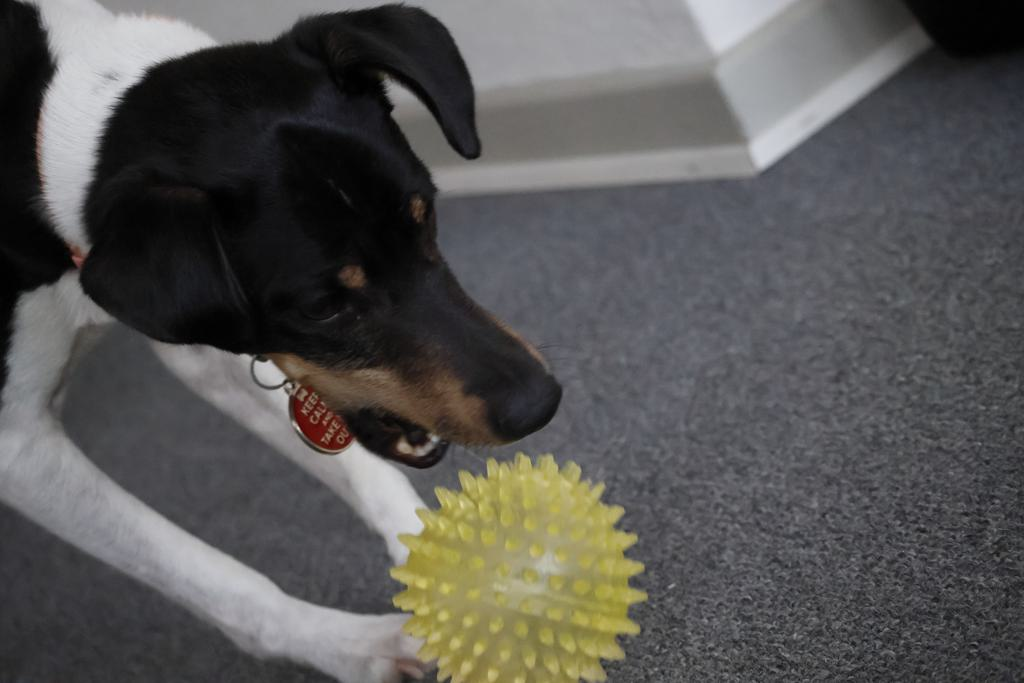Dog: (0, 0, 574, 683)
